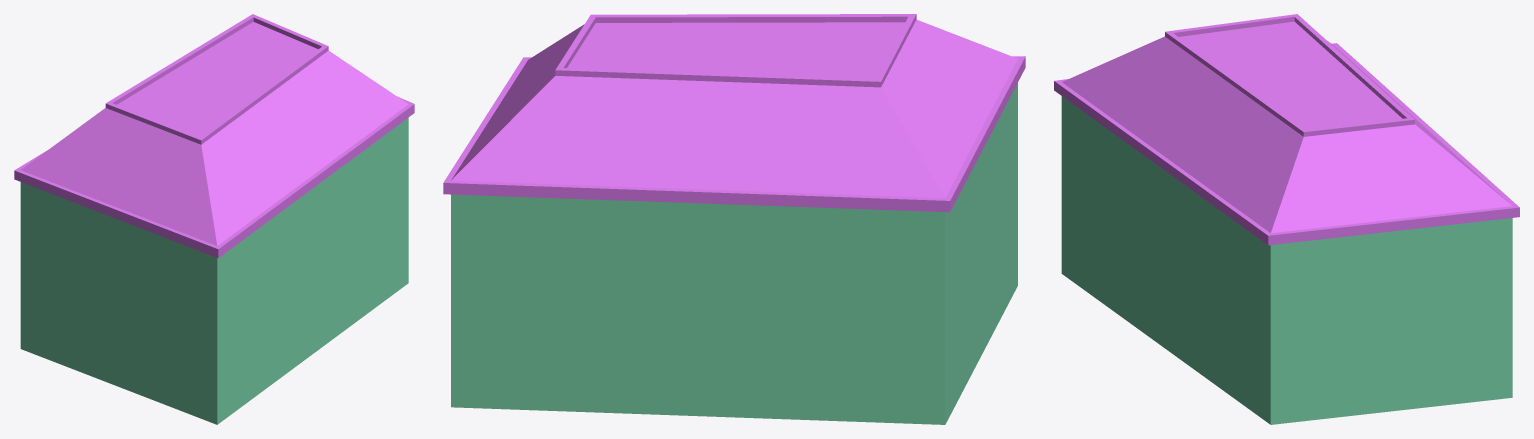
File: Batiment20.fbx
The picture shows the model from 3 angles, left to right: view 1: azimuth 30°, elevation 25°; view 2: azimuth 150°, elevation 25°; view 3: azimuth 270°, elevation 25°; orthographic projection. The views are drawn at different scales.
Parts seen in each view (by area): view 1: Batiment20; view 2: Batiment20; view 3: Batiment20.
Part boxes in pixels (<box>): Batiment20: <box>14,14,414,424</box>; Batiment20: <box>443,14,1025,424</box>; Batiment20: <box>1054,14,1519,424</box>.
Bounding box in the file's own units: 52.74 × 33.03 × 53.86.
